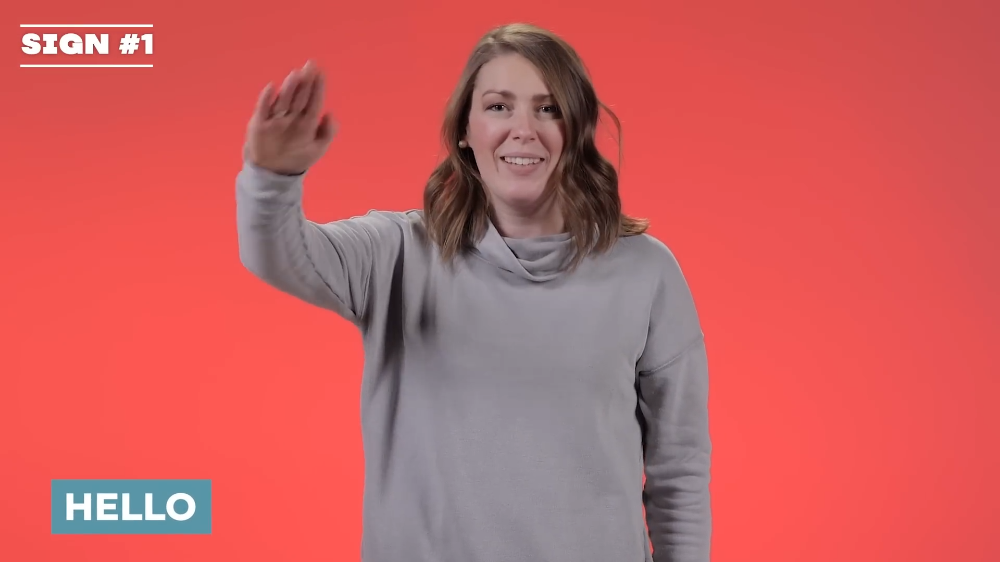hello: (233, 58, 361, 173)
